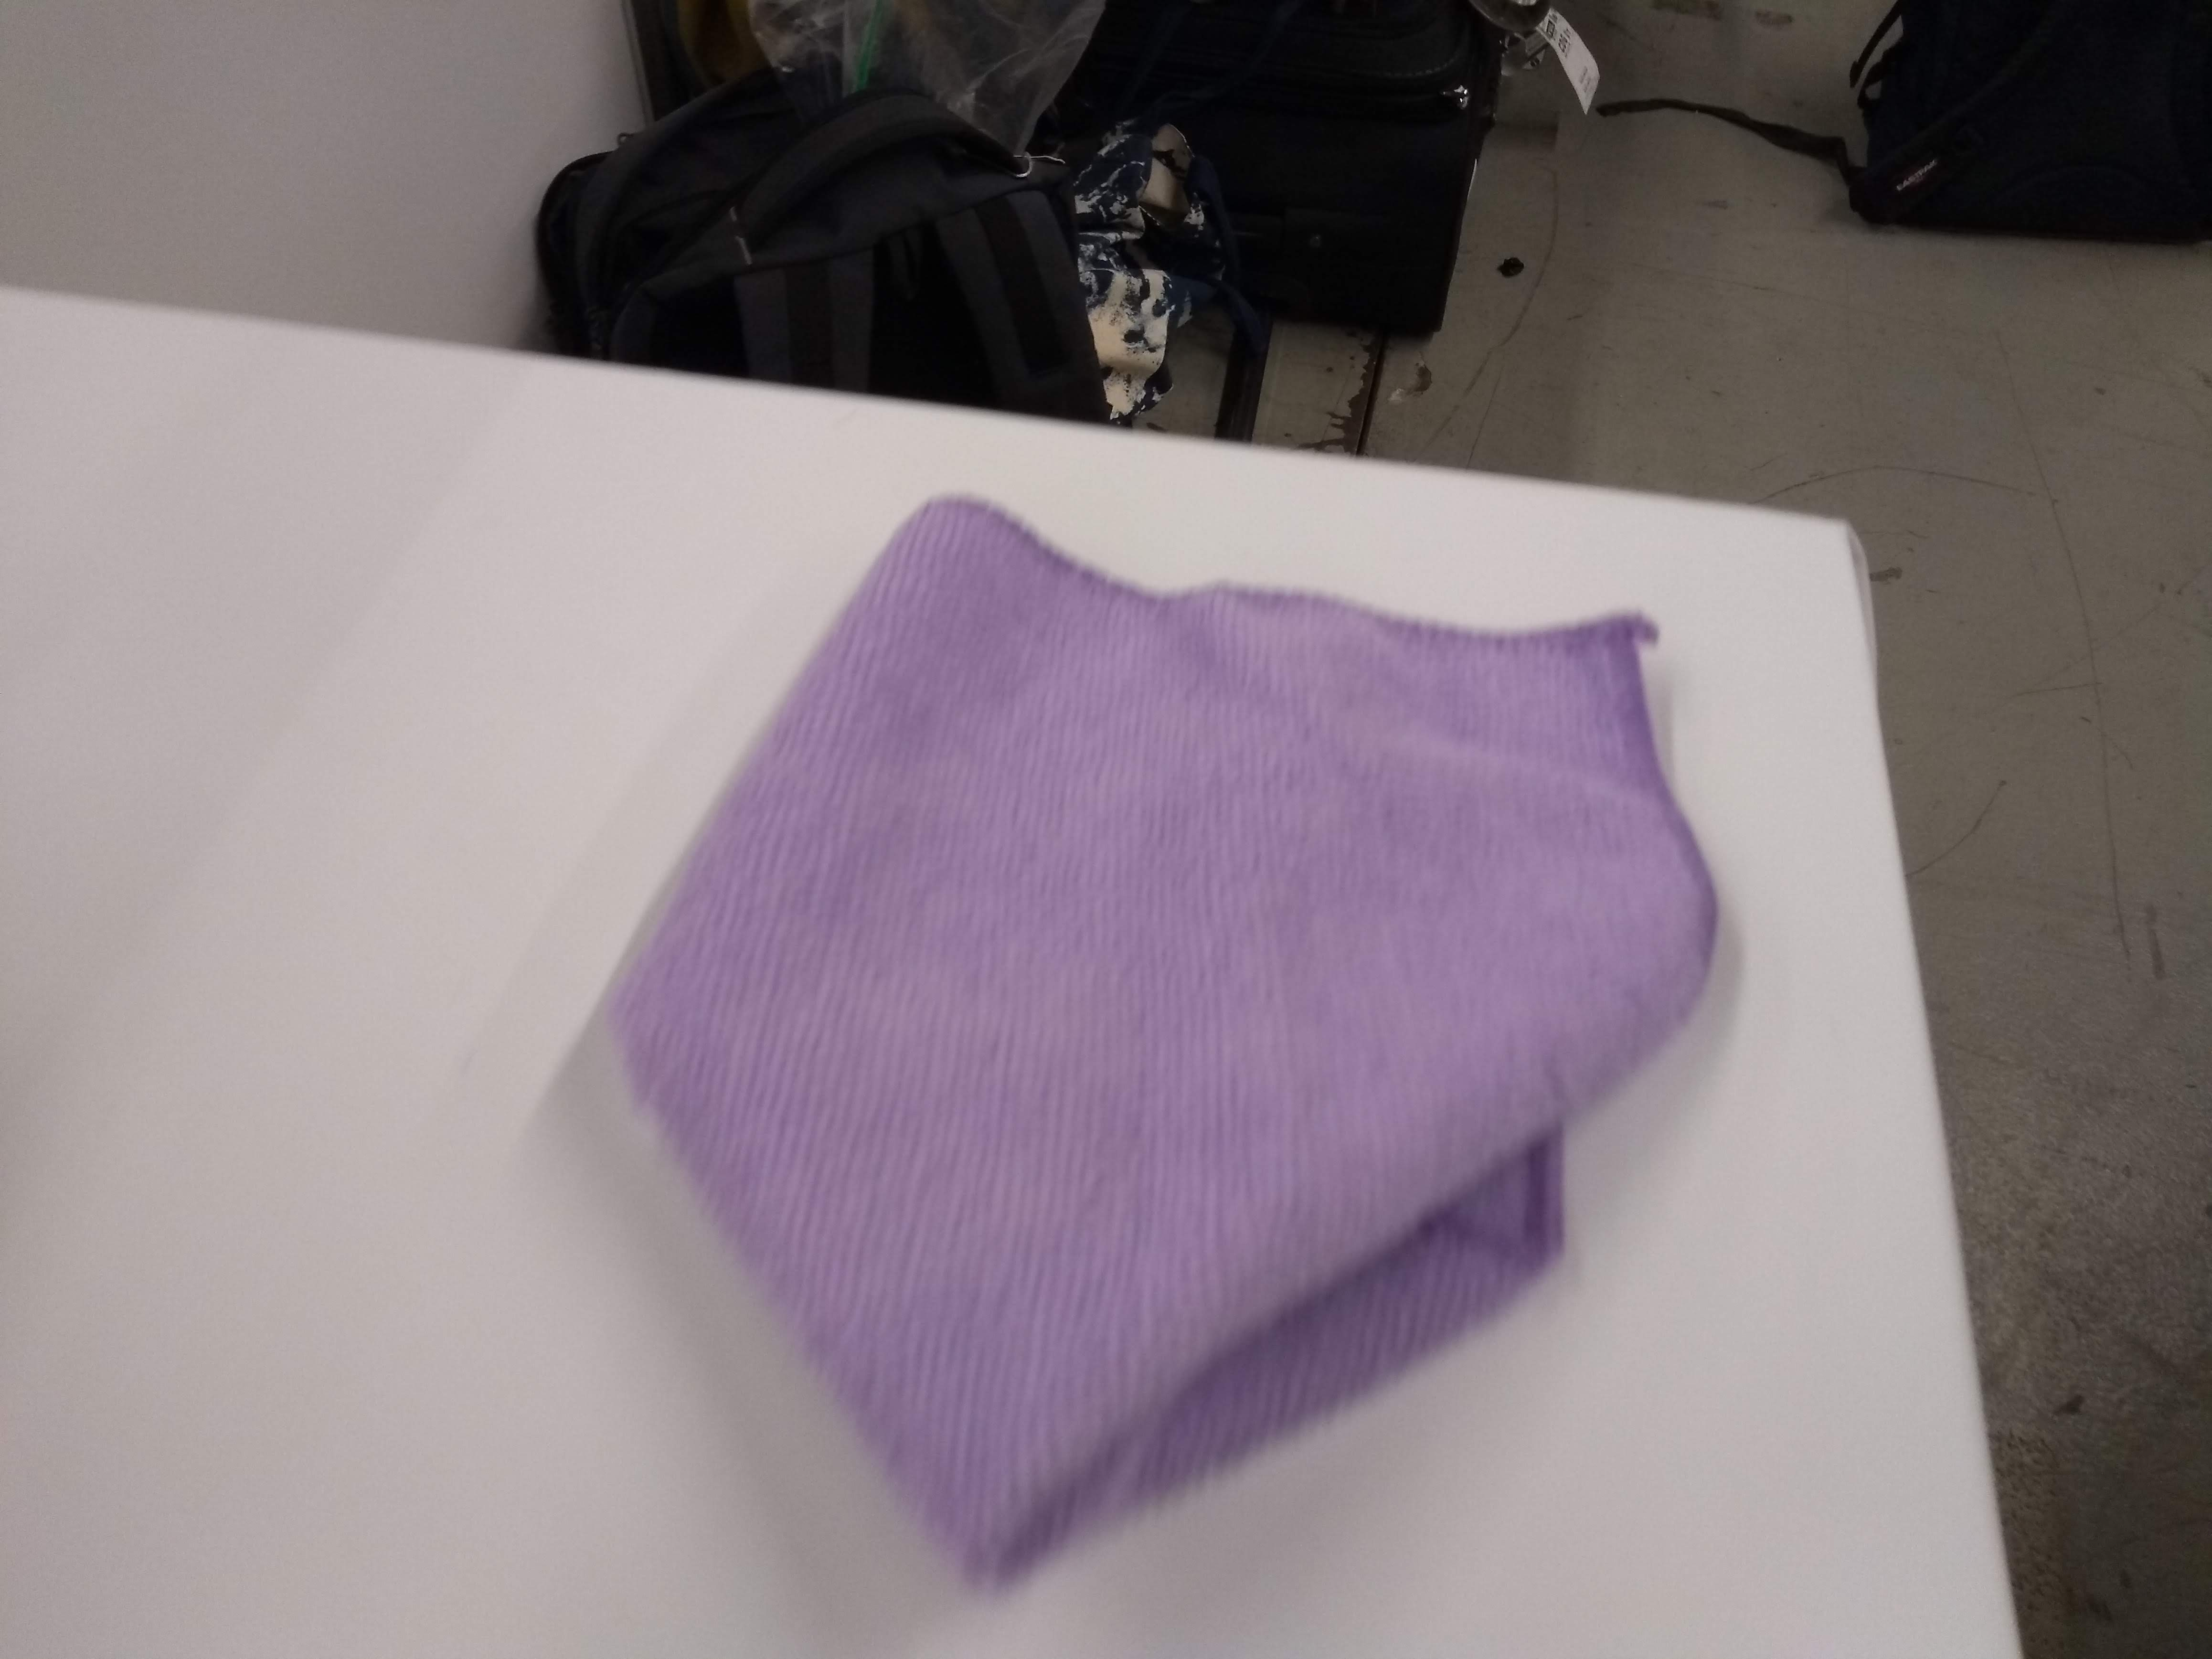cloth_opl: (582, 476, 1747, 1615)
